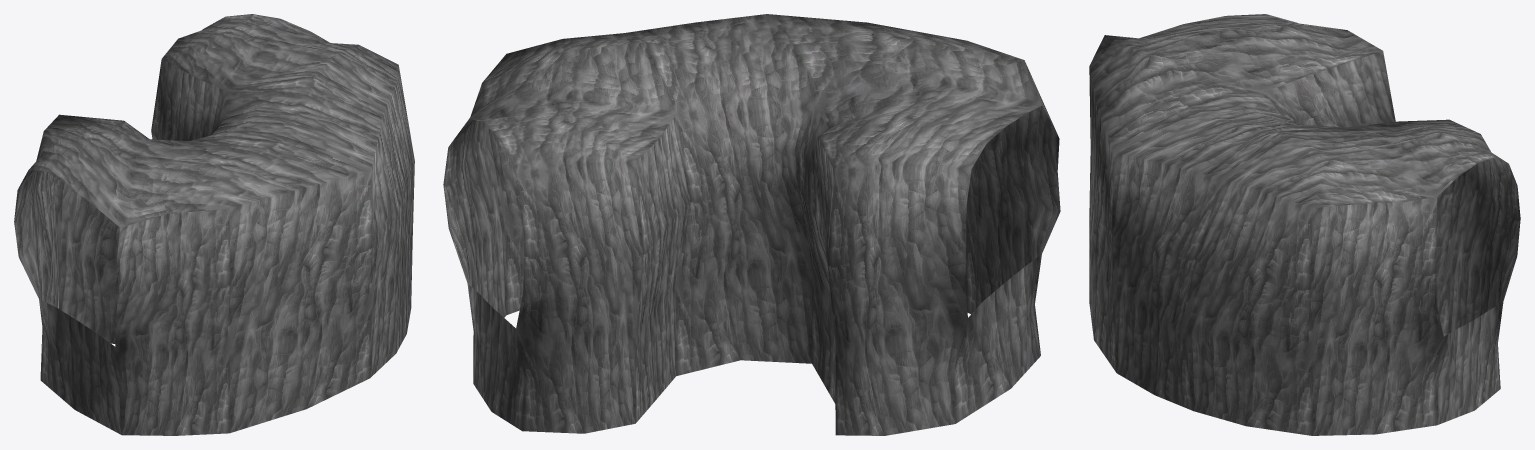
The model's file is SWORDLIGHT20_PS-AREA01_06.fbx.
3 views of the same model, side by side, from view 1: azimuth 30°, elevation 25°; view 2: azimuth 150°, elevation 25°; view 3: azimuth 270°, elevation 25° (orthographic). The views are drawn at different scales.
Parts seen in each view (by area): view 1: SWORDLIGHT20_PS-AREA01_06; view 2: SWORDLIGHT20_PS-AREA01_06; view 3: SWORDLIGHT20_PS-AREA01_06.
Part boxes in pixels (x1,y1,x2,y2): SWORDLIGHT20_PS-AREA01_06: (14, 14, 414, 435); SWORDLIGHT20_PS-AREA01_06: (443, 14, 1060, 435); SWORDLIGHT20_PS-AREA01_06: (1089, 14, 1520, 435).
Size of the model in its own units: 224089 by 135537 by 203209.
Materials: 1 (1 with a texture image).
